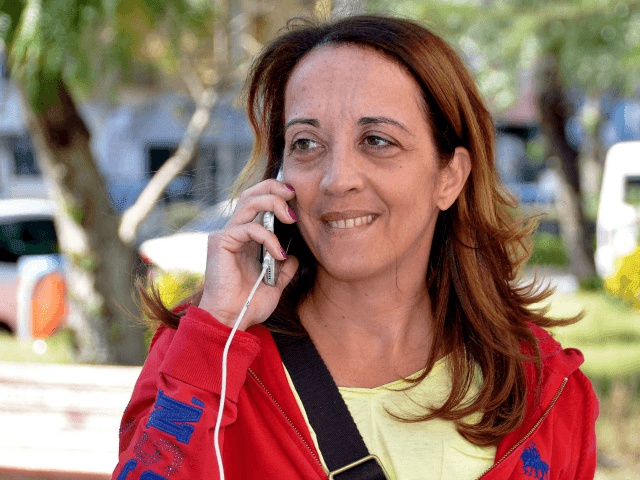mouth: (316, 207, 379, 236)
nose: (316, 176, 363, 195)
